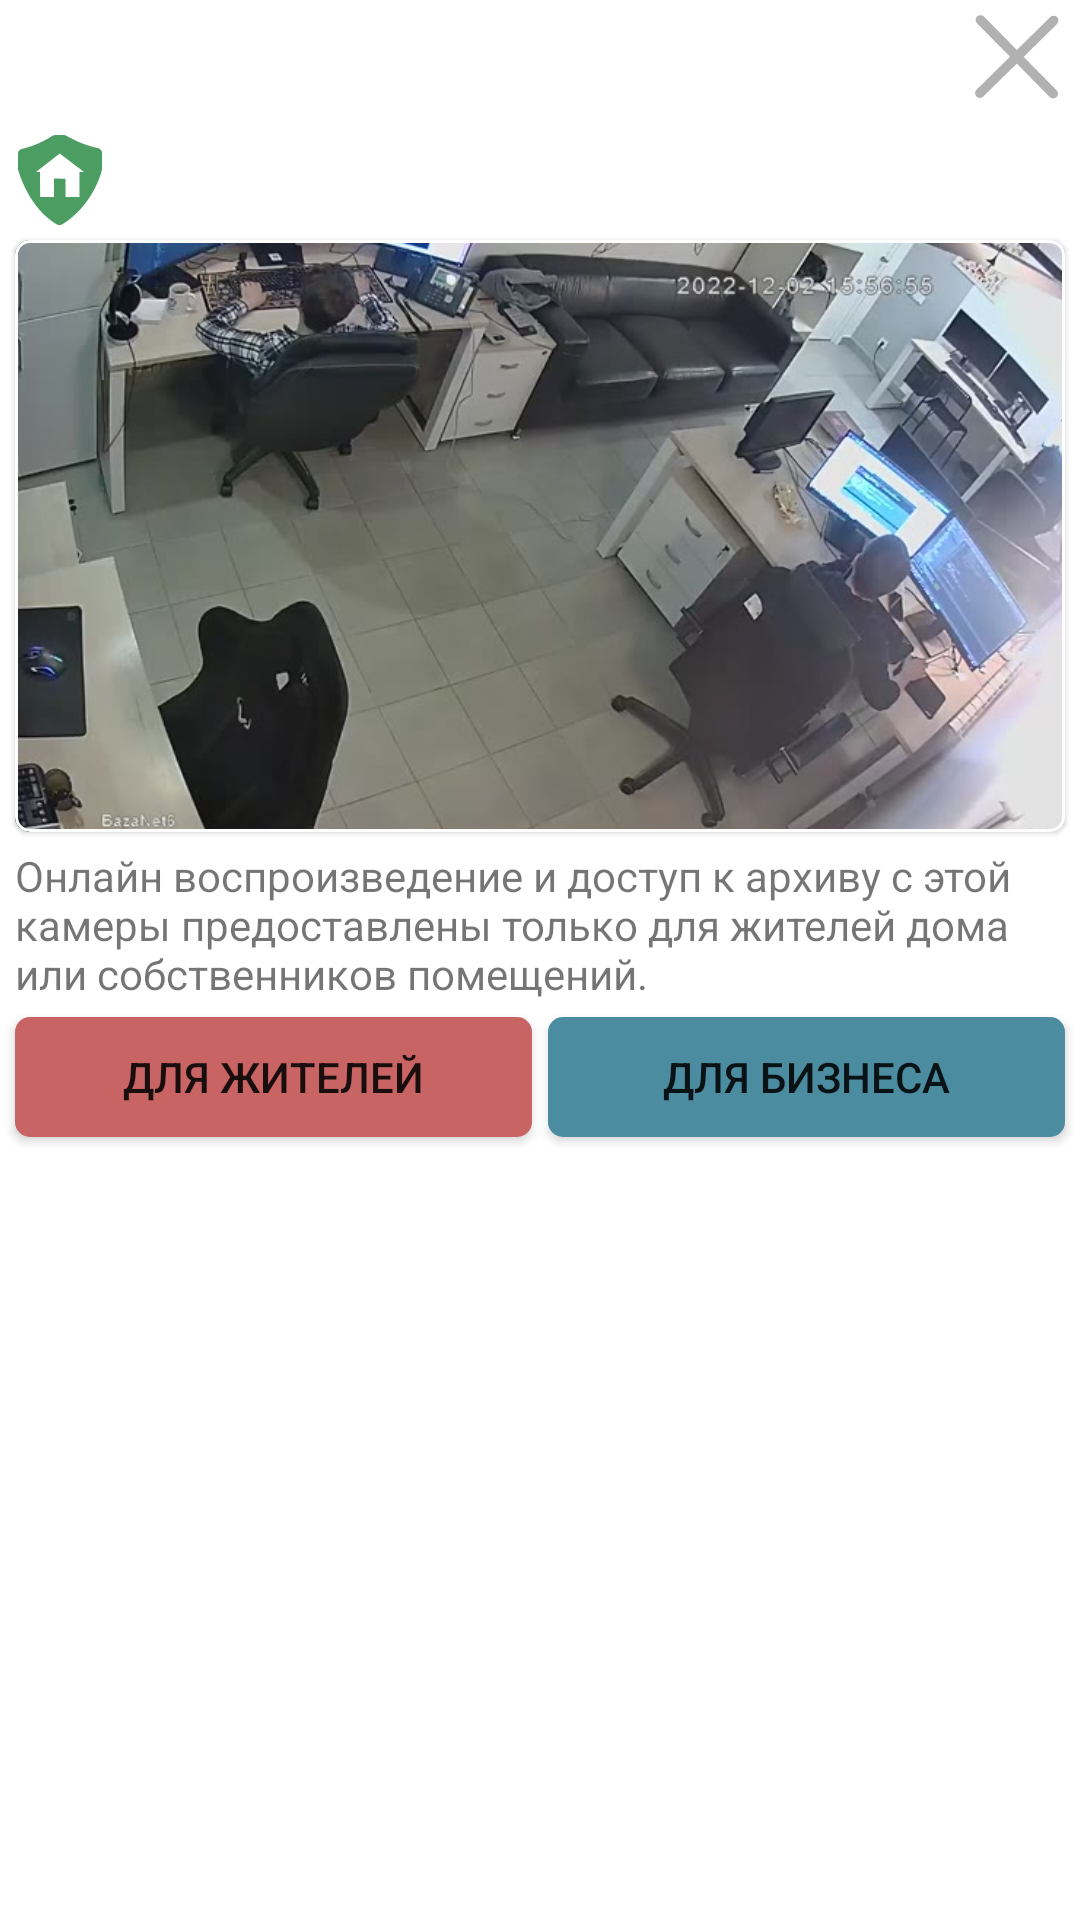

Icon bounding boxes for this 1080px x 1920px phone screenshot, format (x1, y1, x2, y2):
close cross: (975, 15, 1059, 98)
